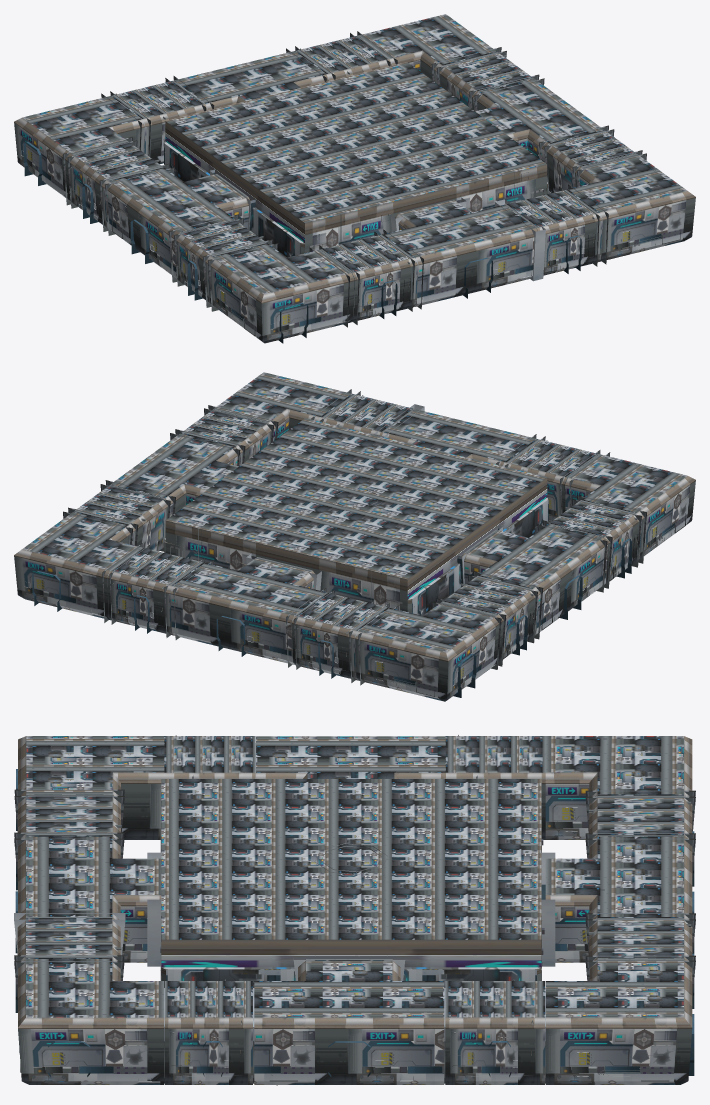
The model's file is Combined_Mesh_root_scene__16_1995fef1__ZombiesII_laboratory_04_d_1b2a1172_c1f257.obj.
3 views of the same model, one above another, from view 1: azimuth 30°, elevation 25°; view 2: azimuth 150°, elevation 25°; view 3: azimuth 270°, elevation 25° (orthographic). The views are drawn at different scales.
Size of the model in its own units: 72.61 by 10.34 by 71.75.
Materials: 726 (726 with a texture image).
